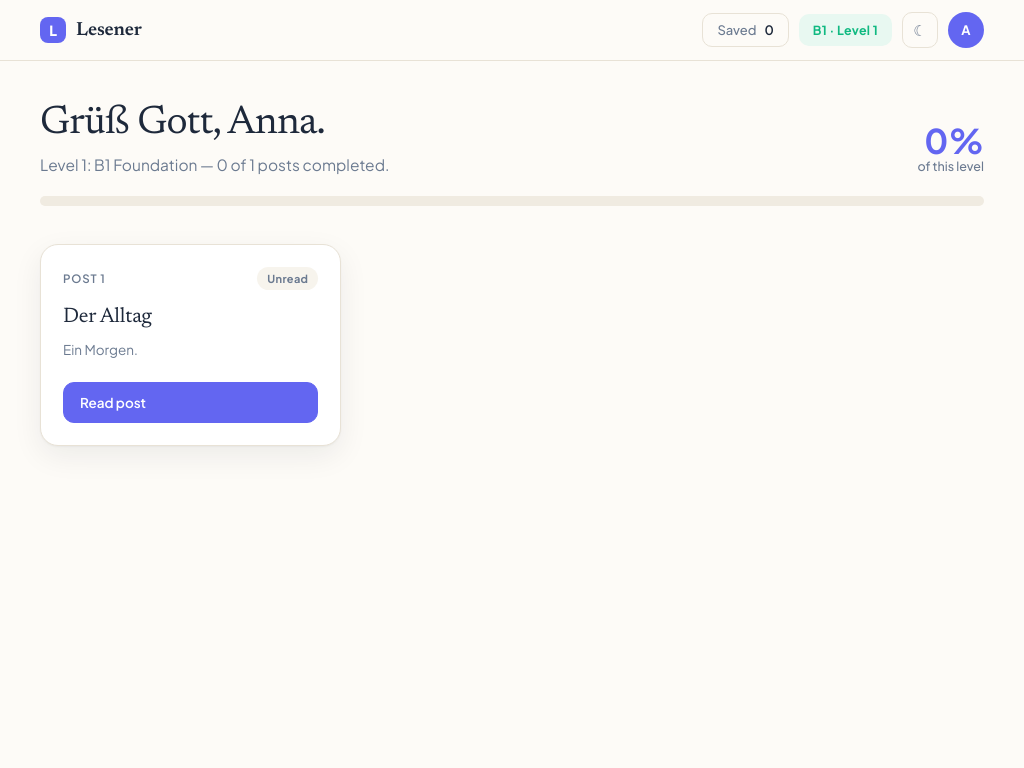
deleting your account › asks for a password before anything can be erased
Click the button "A".
click(966, 30)  # box [948, 12, 984, 48]
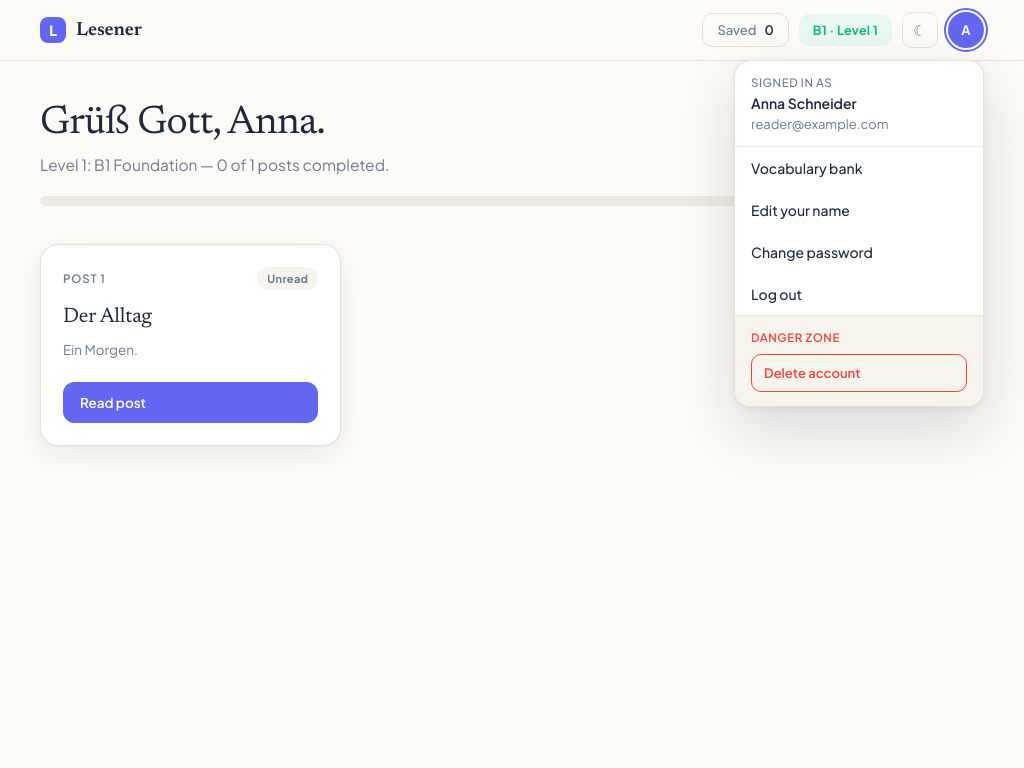
Click the button "Delete account".
click(859, 373)  # box [751, 354, 967, 392]
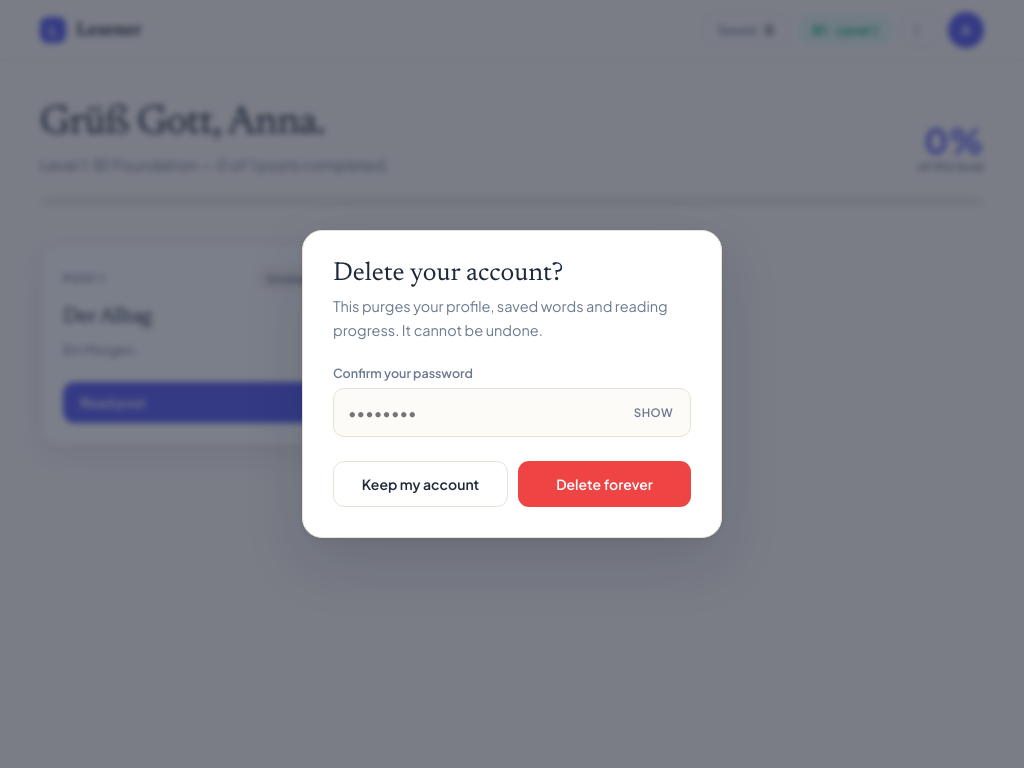
Now the password field labelled "Confirm your password" is shown, box [333, 388, 691, 437]
